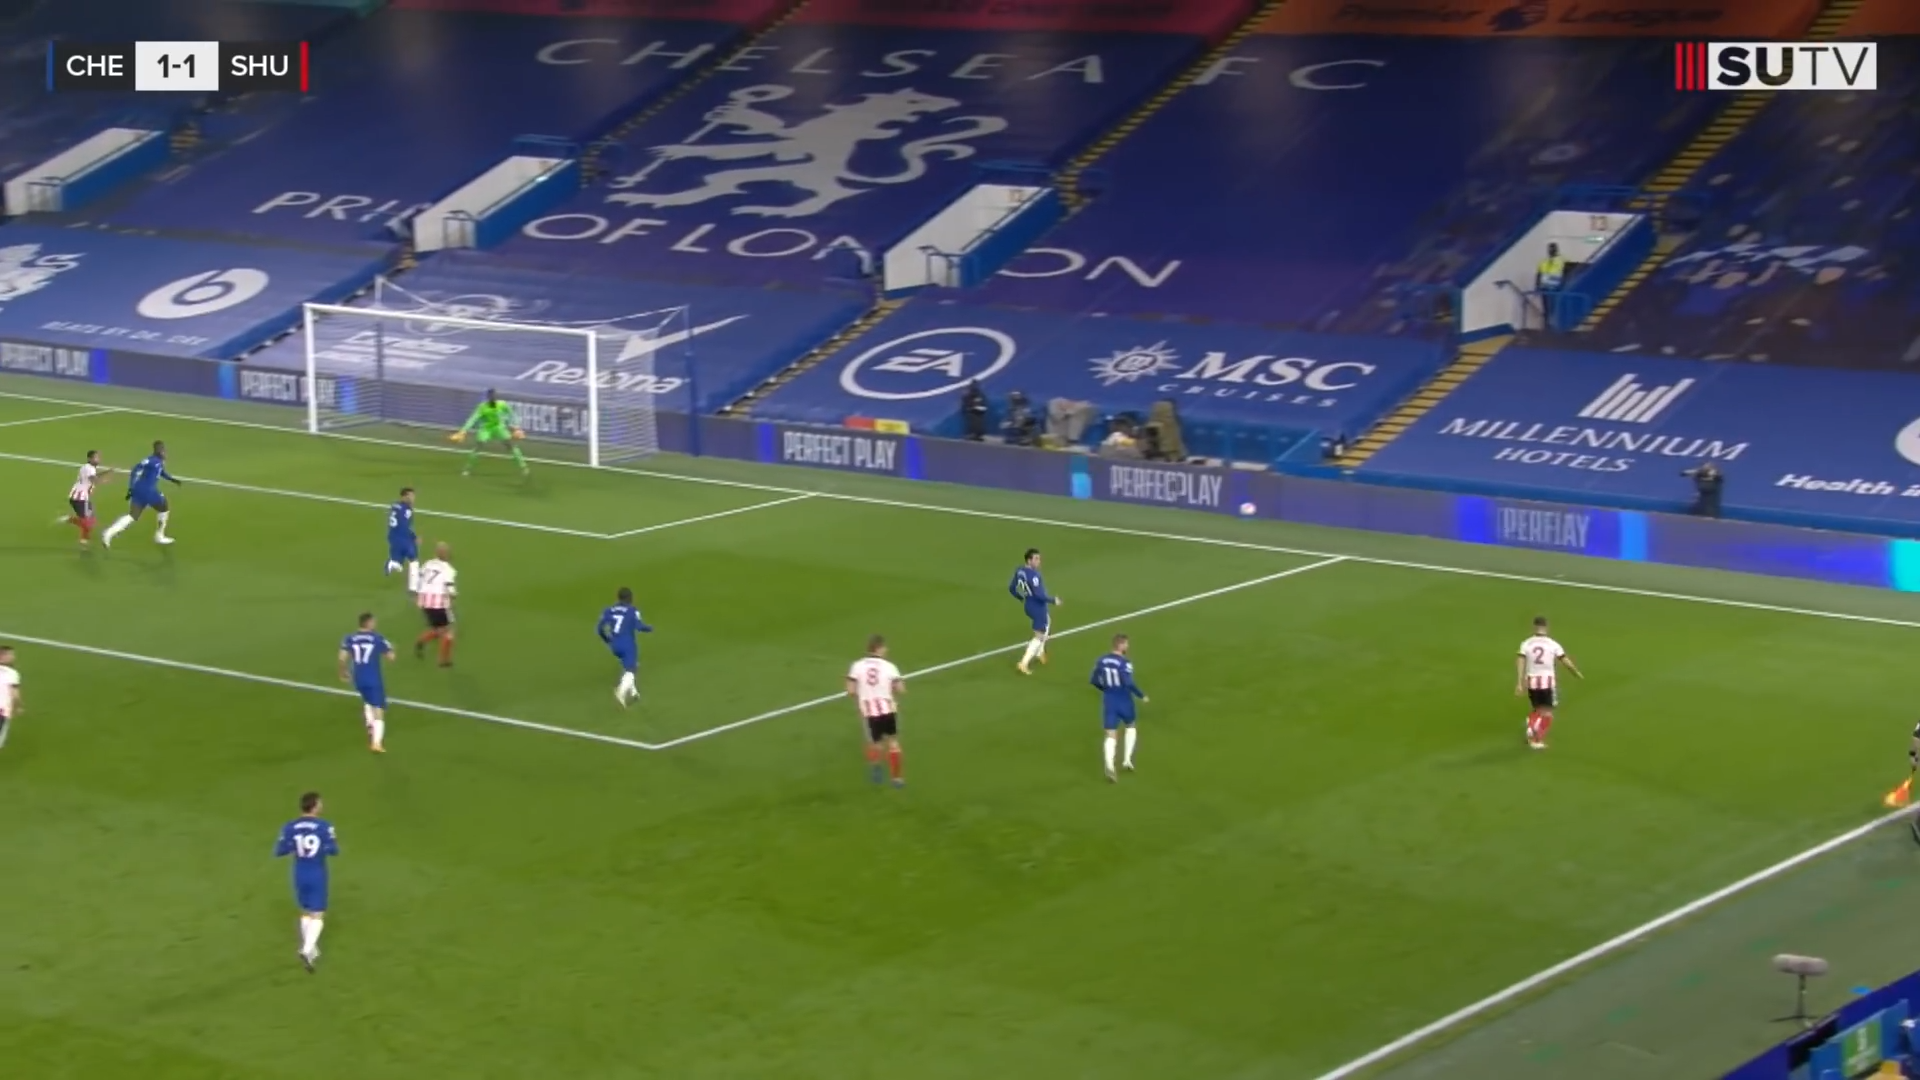Player: (273, 787, 348, 975), (316, 603, 404, 760), (838, 630, 923, 785), (1075, 623, 1154, 785), (1509, 610, 1593, 753), (109, 429, 186, 562), (586, 584, 661, 714), (448, 384, 539, 487)
